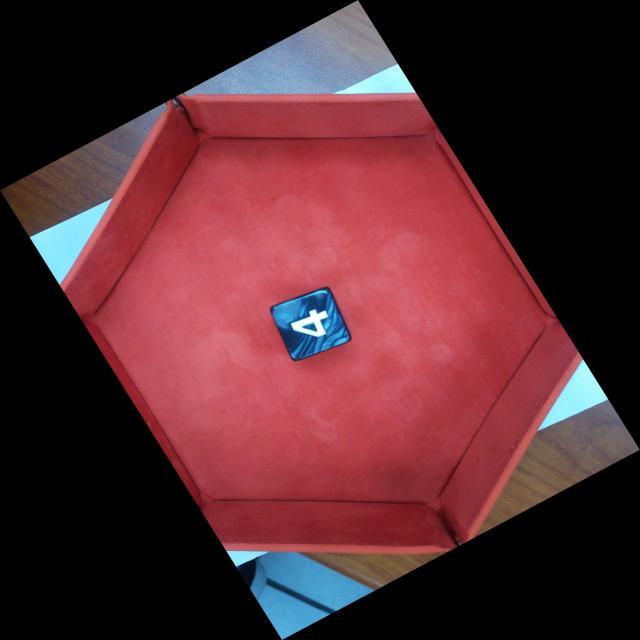dice: (270, 287, 352, 361)
